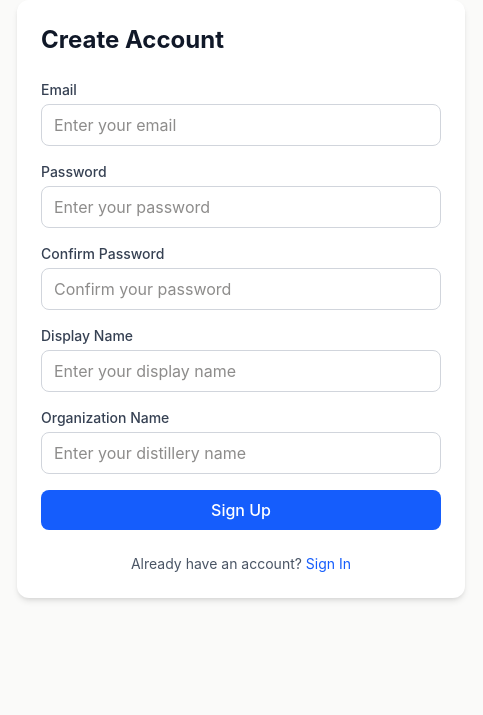
Test: SignUpForm › should show error when passwords do not match
Type "password123" into the password field labelled "Password" at (241,207), box [41, 186, 441, 228]
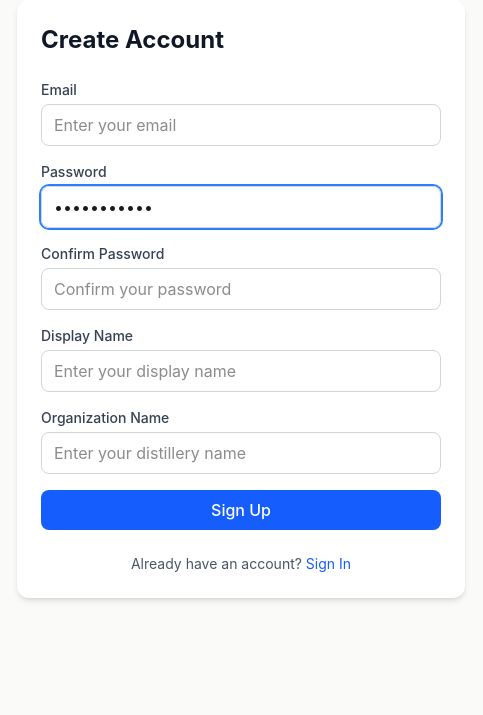
Type "differentpassword" into the password field labelled "Confirm Password" at (241,289), box [41, 268, 441, 310]
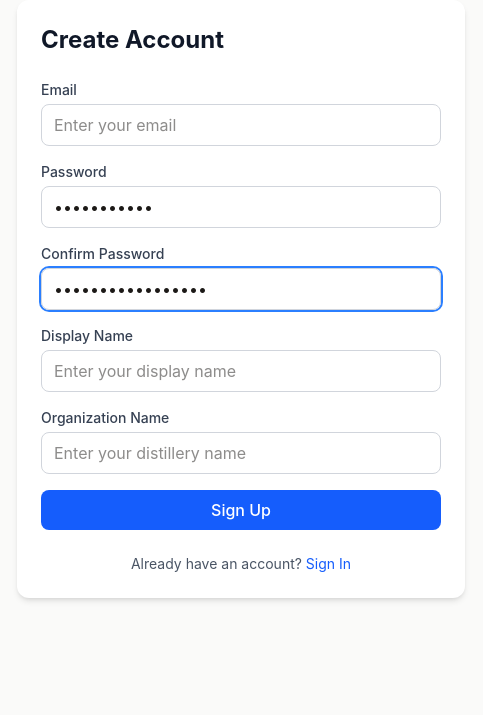
Click the button "Sign Up" at (241,510), box [41, 490, 441, 530]
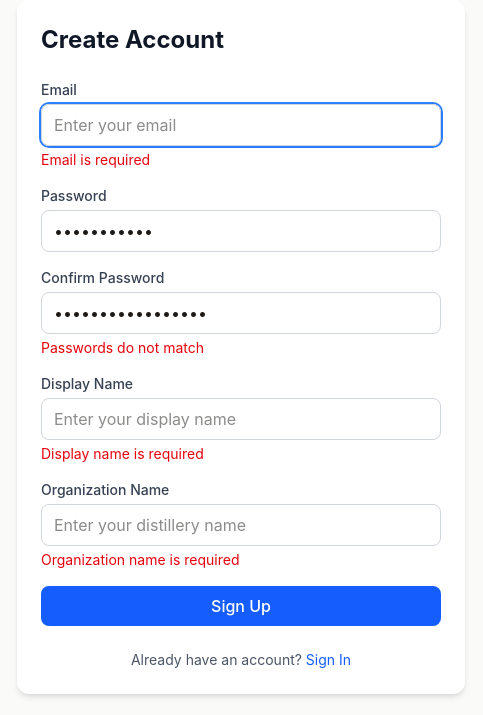
Result: the text "Passwords do not match" is shown at [41, 339, 204, 356]
